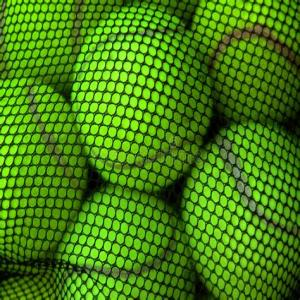Tennis: (73, 2, 212, 188), (186, 121, 300, 300), (0, 74, 89, 265), (54, 187, 188, 300), (192, 0, 300, 122)
